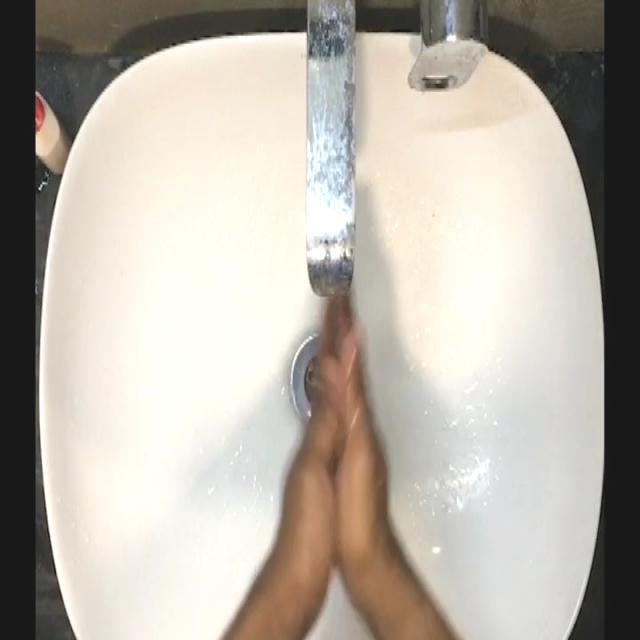step_1: (276, 228, 400, 557)
